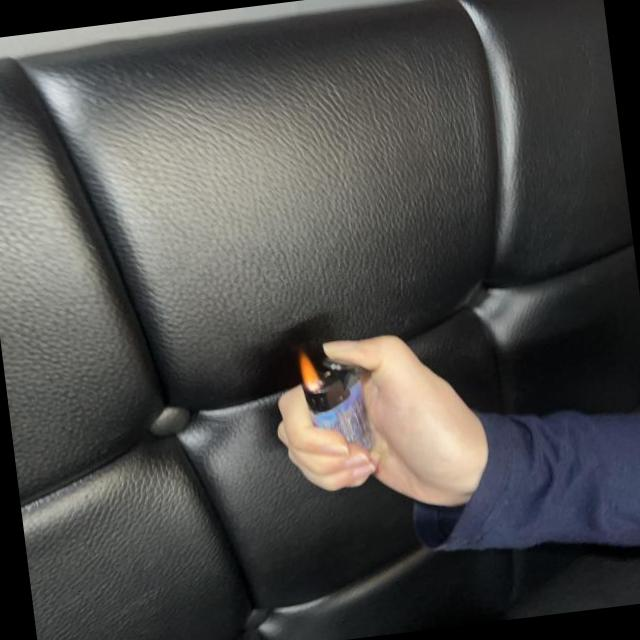Fire: (296, 348, 322, 393)
